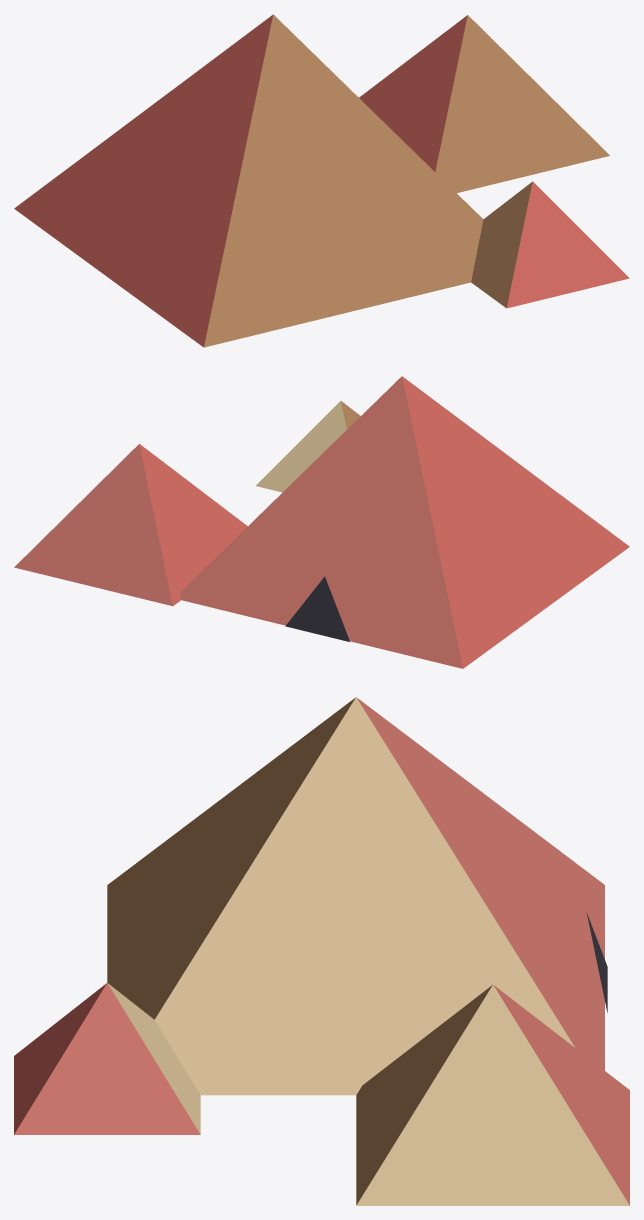
File: deco_pyramid.obj
3 views of the same model, one above another, from view 1: azimuth 30°, elevation 25°; view 2: azimuth 150°, elevation 25°; view 3: azimuth 270°, elevation 25° (orthographic). The views are drawn at different scales.
Parts seen in each view (by area): view 1: deco_pyramid; view 2: deco_pyramid; view 3: deco_pyramid.
Part boxes in pixels (x1,y1,x2,y2): deco_pyramid: (14, 14, 629, 347); deco_pyramid: (14, 376, 629, 668); deco_pyramid: (14, 697, 629, 1205).
Bounding box in the file's own units: 0.061 × 0.026 × 0.0495.
1 material, 1 textured.
